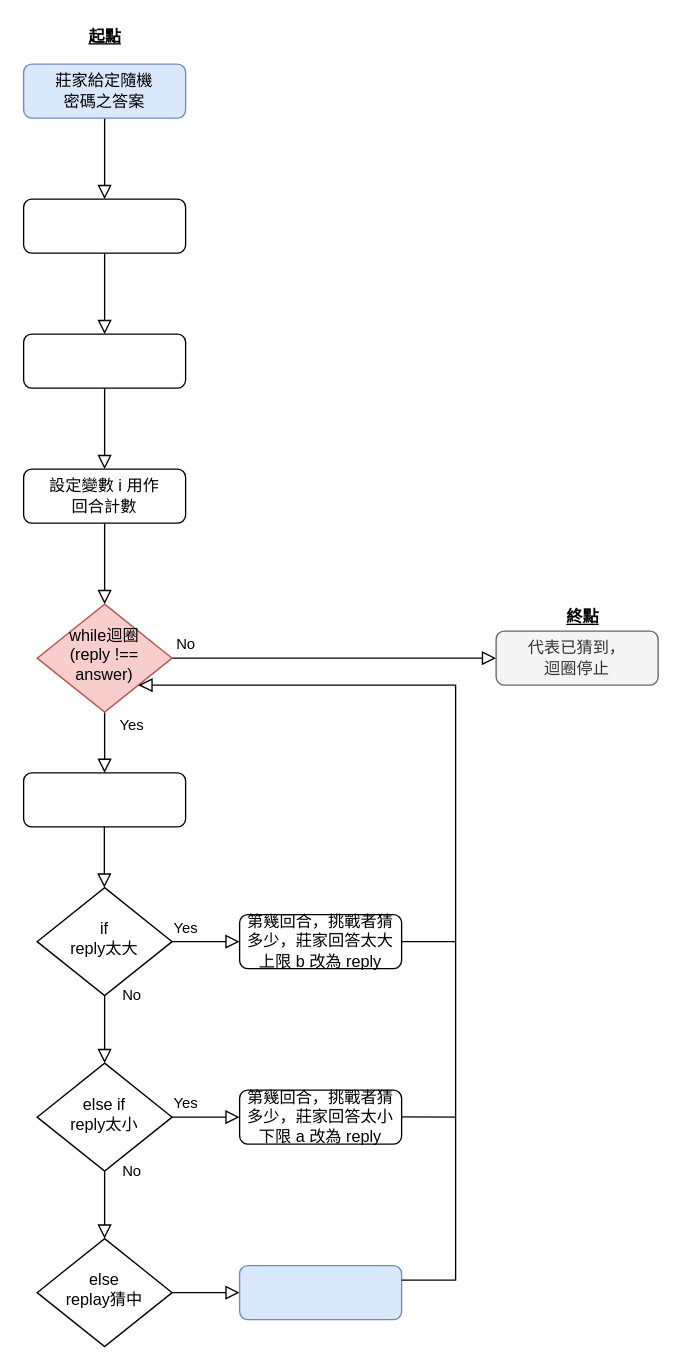
Some shapes in this 682 by 1370 pixel diagram are drawn without their labels. The shapes that lost their labels are listed below. From the top down, each one's centre as x and y in pixels, then its label:
point 104,225: 設定下限、上限變數 初始為1 - 100
point 104,360: 宣告變數reply用來代表挑戰者每回合之 猜測值
point 104,799: 目前範圍(a, b)取中間值賦值給該回合reply
point 320,1292: 第幾回合，挑戰者猜多少，恭喜答對
